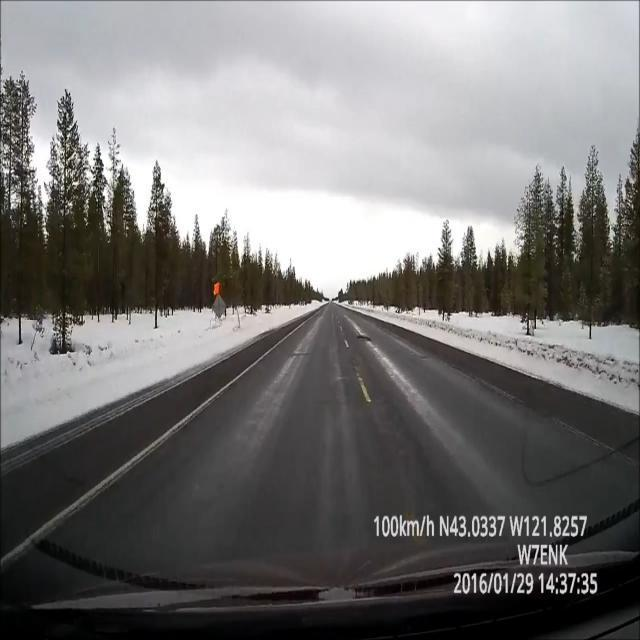Buraco: (354, 334, 374, 343)
